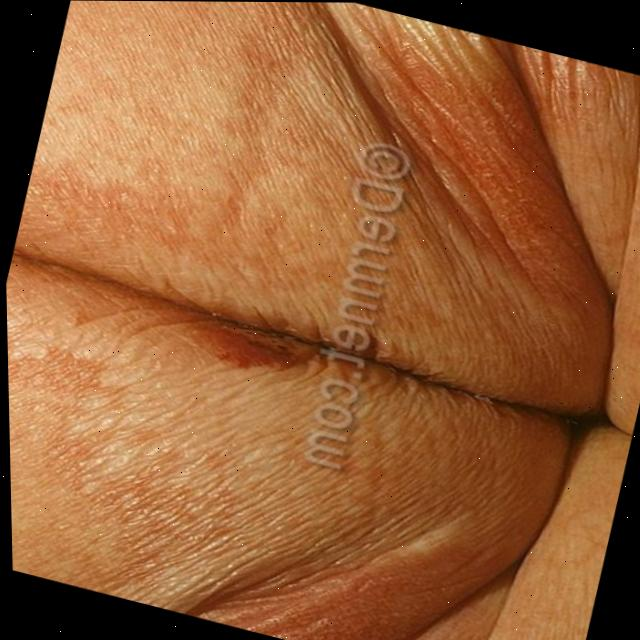Eczema: (1, 37, 587, 615)
